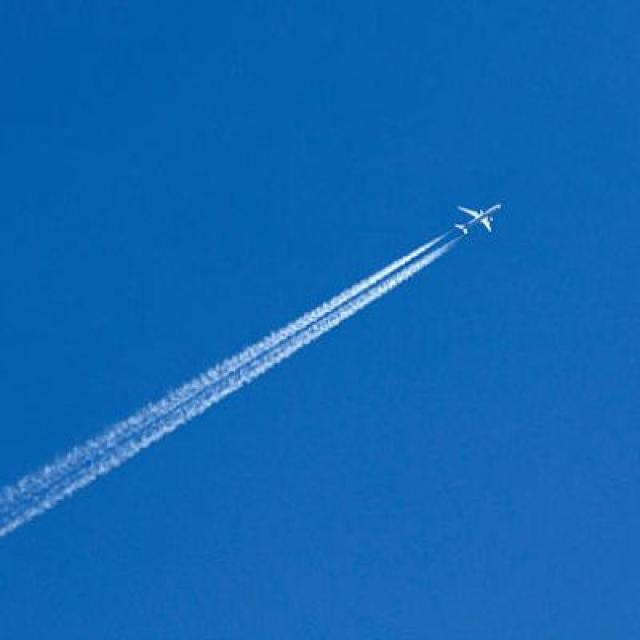Ct: (1, 162, 437, 531)
